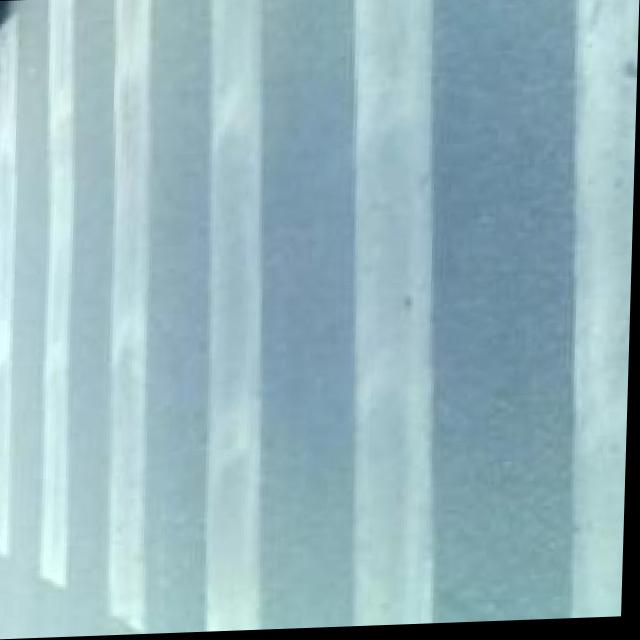zebra: (0, 0, 640, 559)
